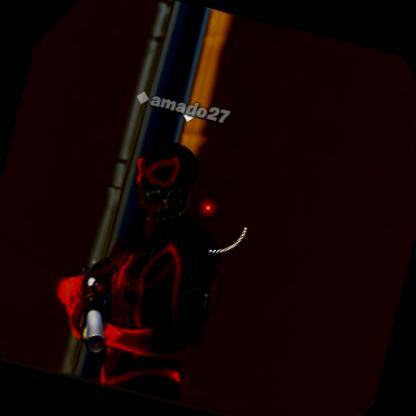person: (75, 147, 214, 404)
